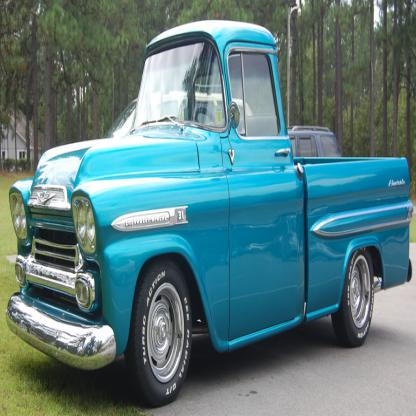Car: (5, 21, 413, 407), (102, 66, 253, 136), (286, 124, 342, 158)
Truck: (5, 19, 414, 408)
